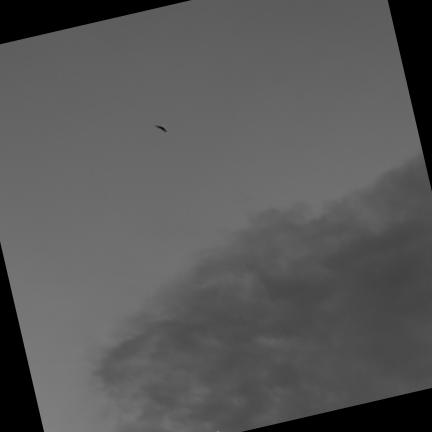Shahed: (154, 125, 167, 133)
